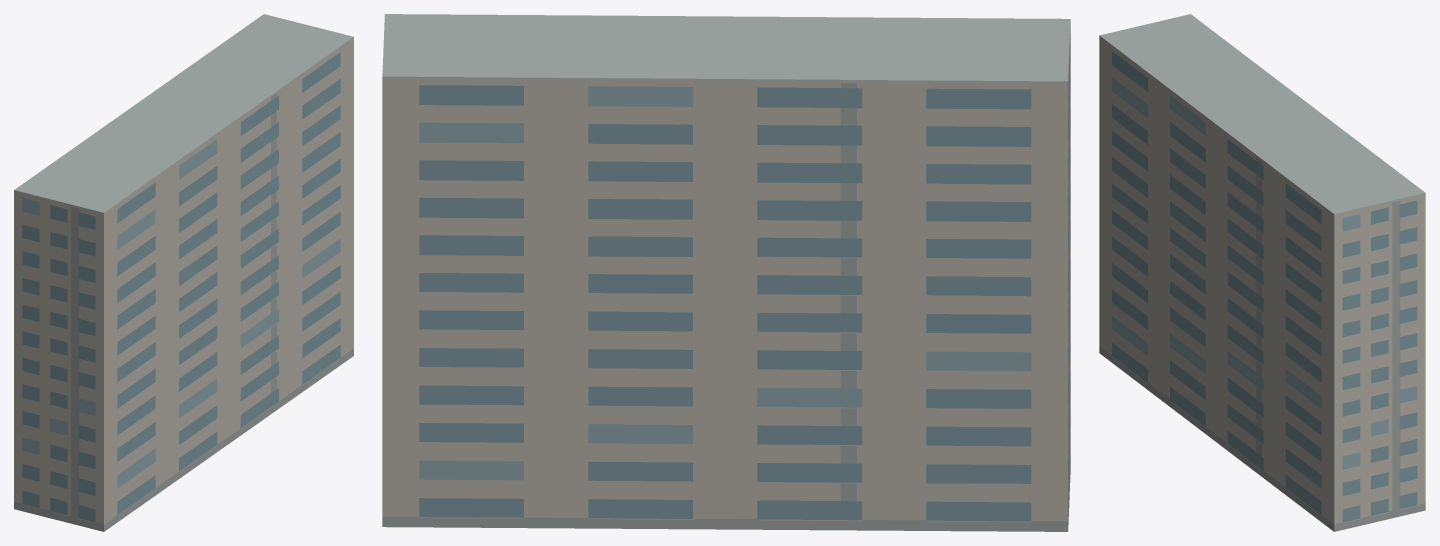
The model's file is residential-96c88e61-6726-4707-8009-04a62e8471de.glb.
3 renders of one model, left to right at view 1: azimuth 30°, elevation 25°; view 2: azimuth 150°, elevation 25°; view 3: azimuth 270°, elevation 25°, orthographic. The views are drawn at different scales.
Parts seen in each view (by area): view 1: residential-96c88e61-6726-4707-8009-04a62e8471de.tmp; view 2: residential-96c88e61-6726-4707-8009-04a62e8471de.tmp; view 3: residential-96c88e61-6726-4707-8009-04a62e8471de.tmp.
Part boxes in pixels (x1,y1,x2,y2): residential-96c88e61-6726-4707-8009-04a62e8471de.tmp: (14, 14, 353, 531); residential-96c88e61-6726-4707-8009-04a62e8471de.tmp: (382, 14, 1070, 531); residential-96c88e61-6726-4707-8009-04a62e8471de.tmp: (1099, 14, 1425, 531).
Bounding box in the file's own units: 49.45 × 36.6 × 34.05.
